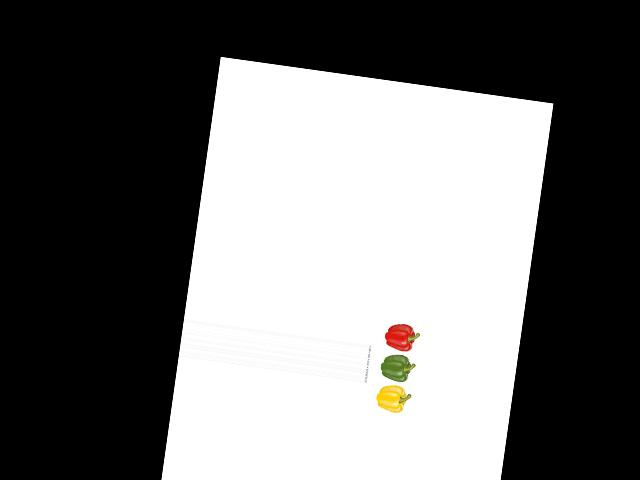bell_pepper: (371, 380, 411, 415)
